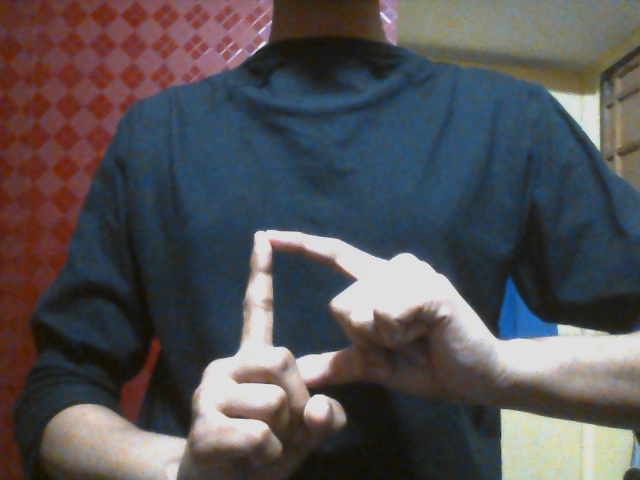D: (190, 227, 488, 480)
